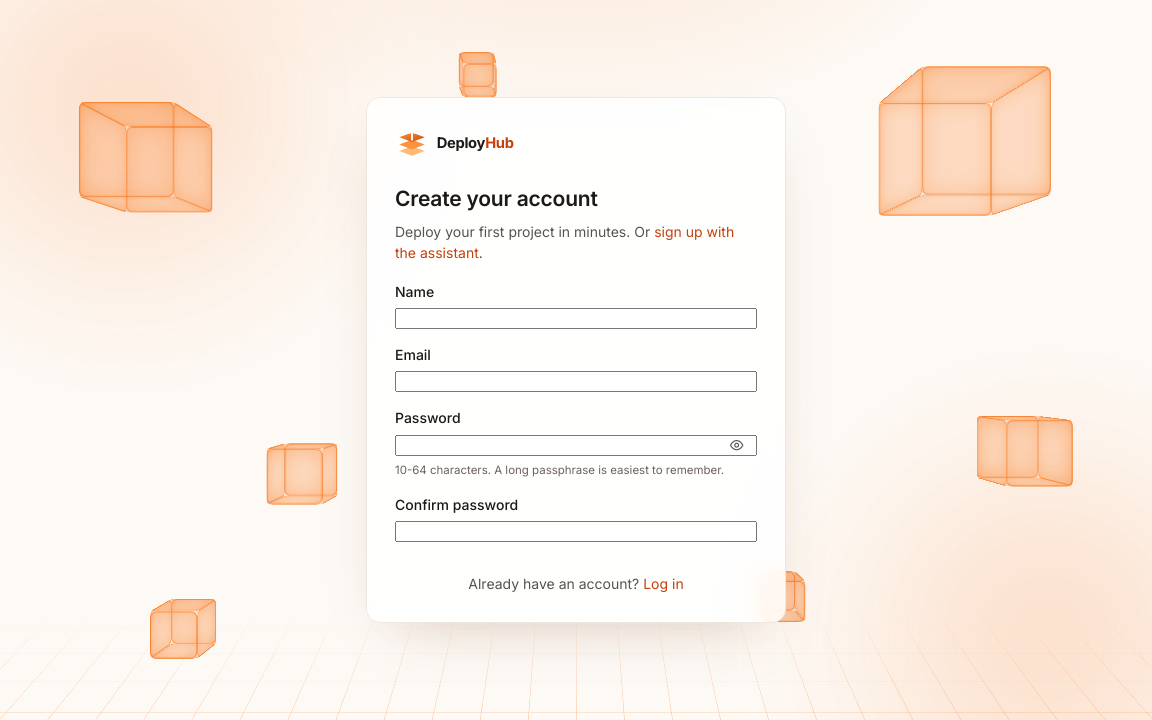
Scenario: SignupComponent › allows only letters and spaces in the name
Type "Bob123" into the field labelled "Name" at (576,319), box x1=395 y1=308 x2=757 y2=329
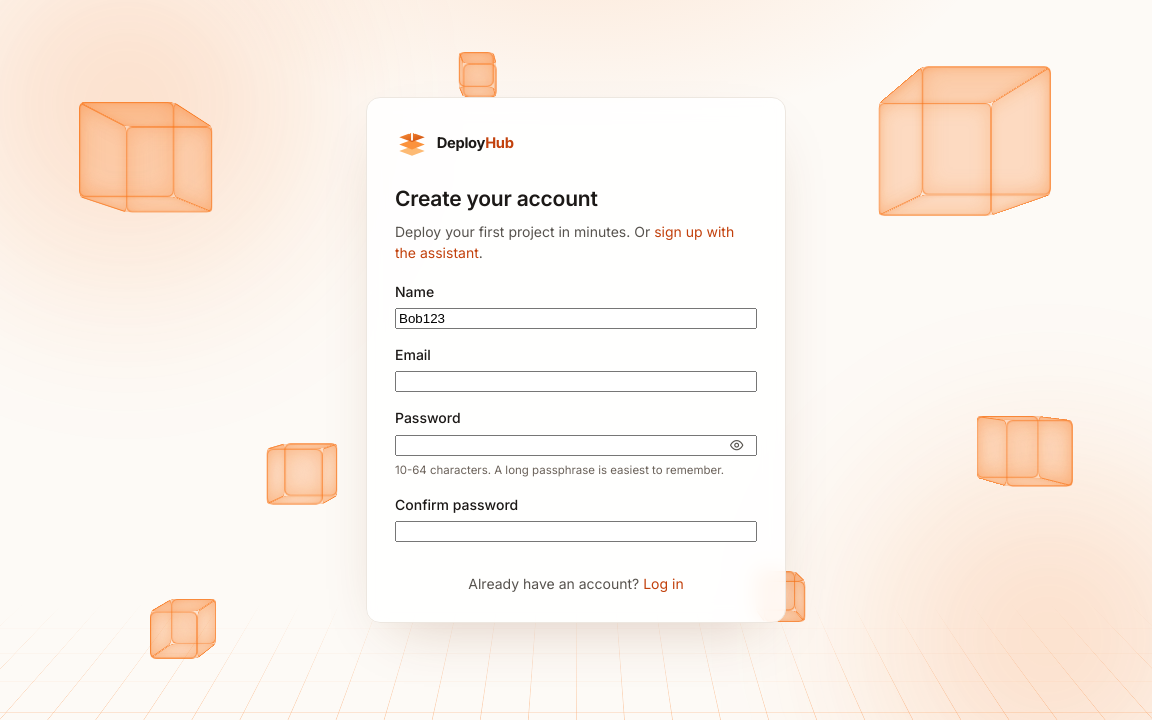
Type "bob@example.com" into the field labelled "Email" at (576,382), box x1=395 y1=371 x2=757 y2=392
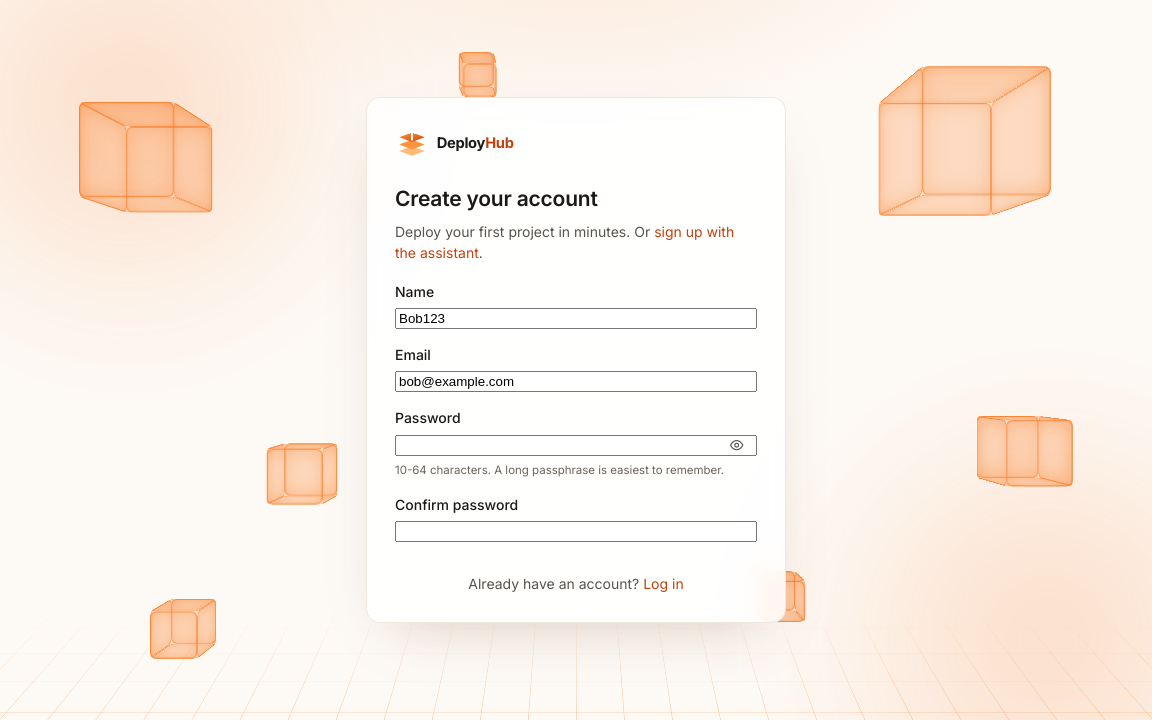
Type "correct-horse-battery" into the password field labelled "Password" at (576,446), box x1=395 y1=435 x2=757 y2=456
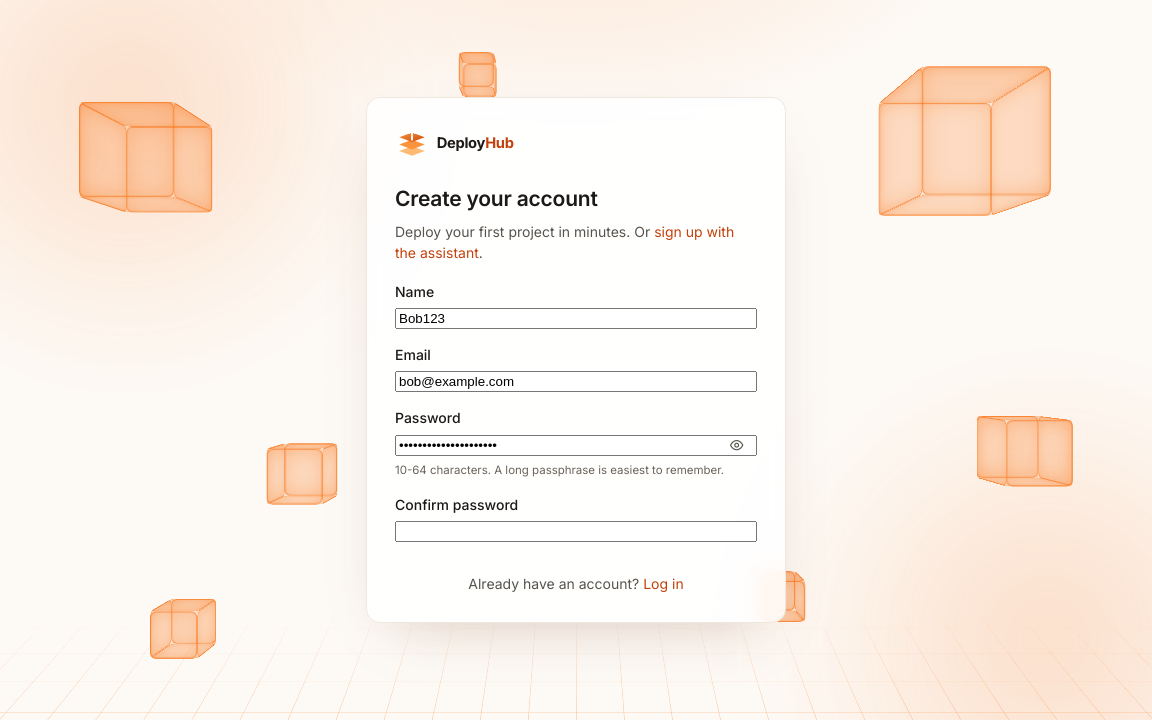
Type "correct-horse-battery" into the password field labelled "Confirm password" at (576,531), box x1=395 y1=521 x2=757 y2=542
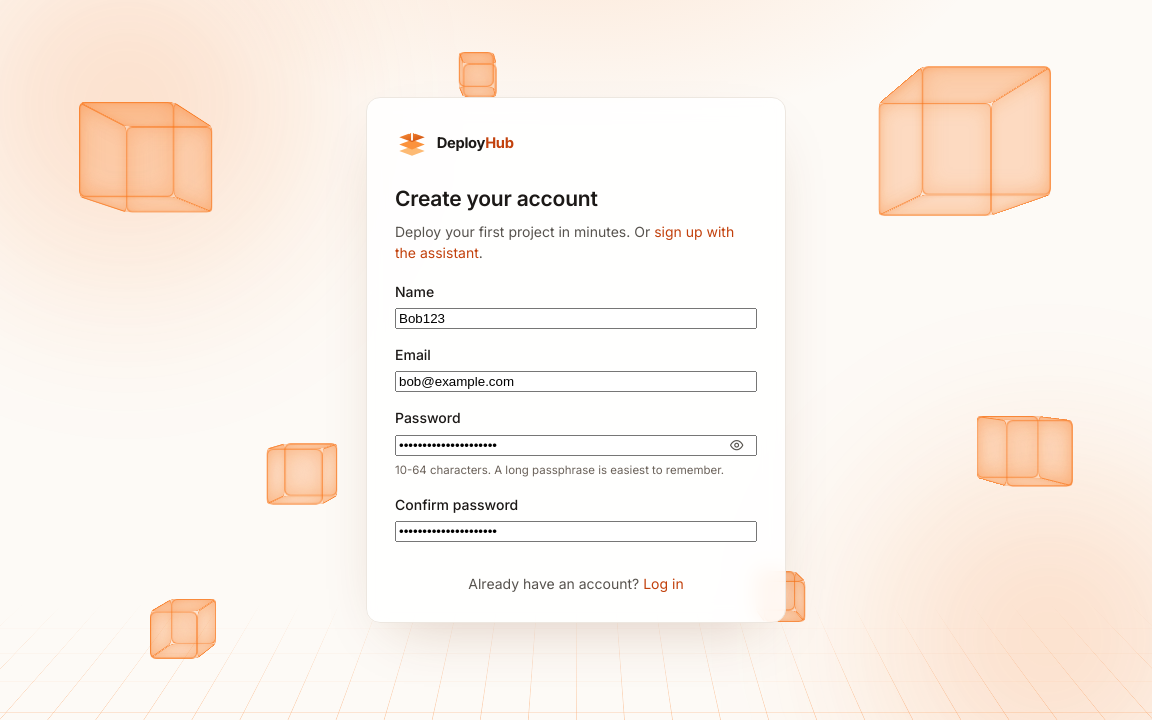
Submit the form, box x1=366 y1=97 x2=786 y2=623
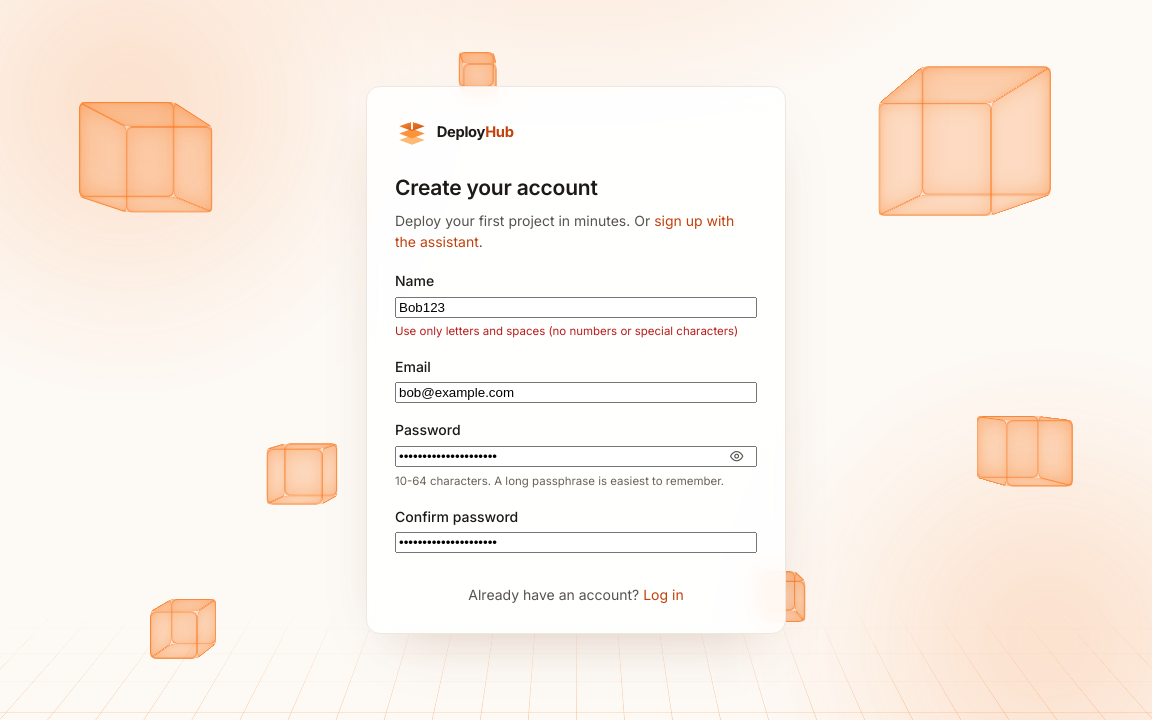
Expected: the text "Use only letters and spaces" is shown, x1=395 y1=324 x2=738 y2=338
